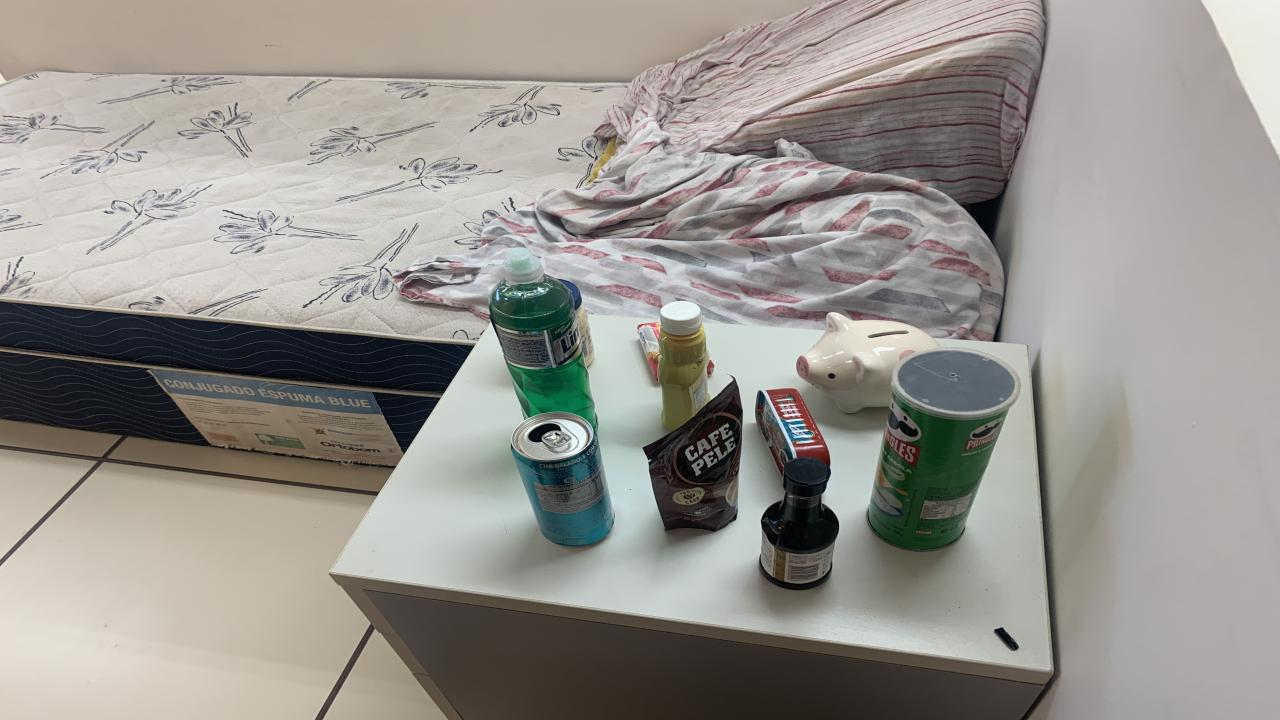Coffee-Pantry_Items: (642, 381, 742, 531)
Detergent-Cleanup_Items: (490, 248, 598, 428)
English_Sauce-Pantry_Items: (760, 458, 840, 589)
Mayonnaise-Pantry_Items: (558, 279, 595, 368)
Mustard-Pantry_Items: (658, 302, 710, 429)
Pig_Safe-Miscellaneous: (795, 313, 938, 412)
Pringles-Snacks: (868, 347, 1020, 551)
Soap-Cleanup_Items: (638, 322, 660, 379), (708, 362, 715, 375)
Tea-Drinks: (510, 412, 615, 546)
Tuna_Can-Pantry_Items: (755, 388, 830, 472)
